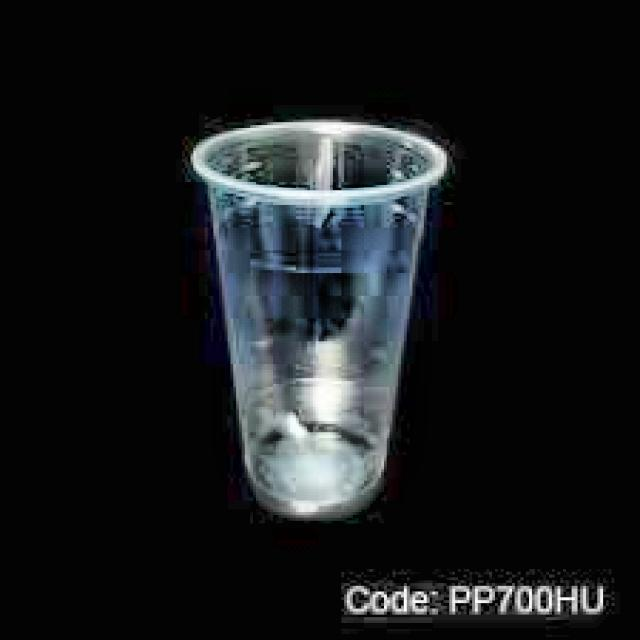plastic cup: (192, 121, 446, 518)
